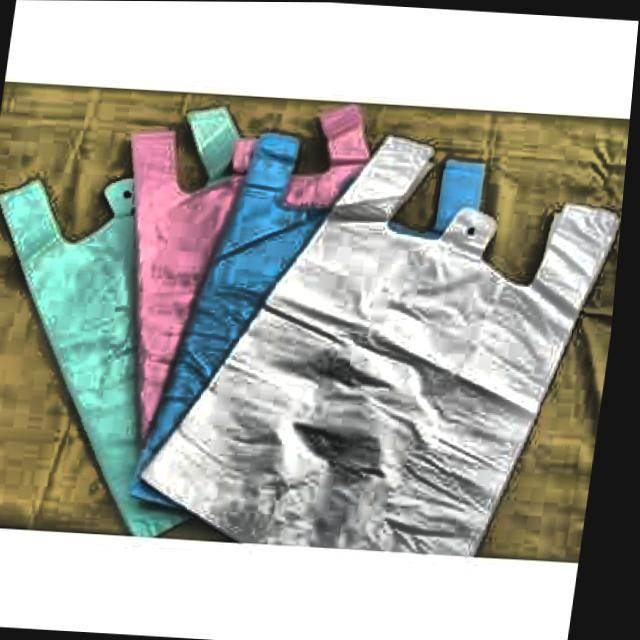Plastic: (0, 97, 625, 559)
